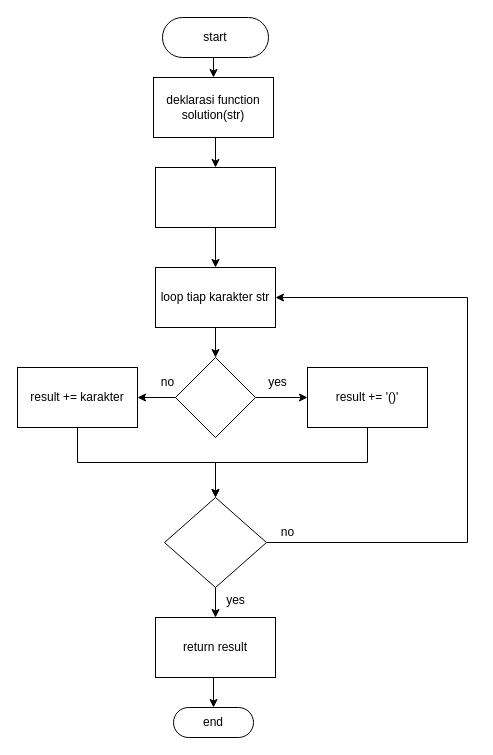
This 493x755 diagram has some shape labels left out. Here are the shapes that lost their labels. From the top down, the centre of each, then its label:
the point at 215,197: deklarasi result
the point at 215,397: cek karakter str = '.'
the point at 215,542: tiap karakter sudah diperiksa?
